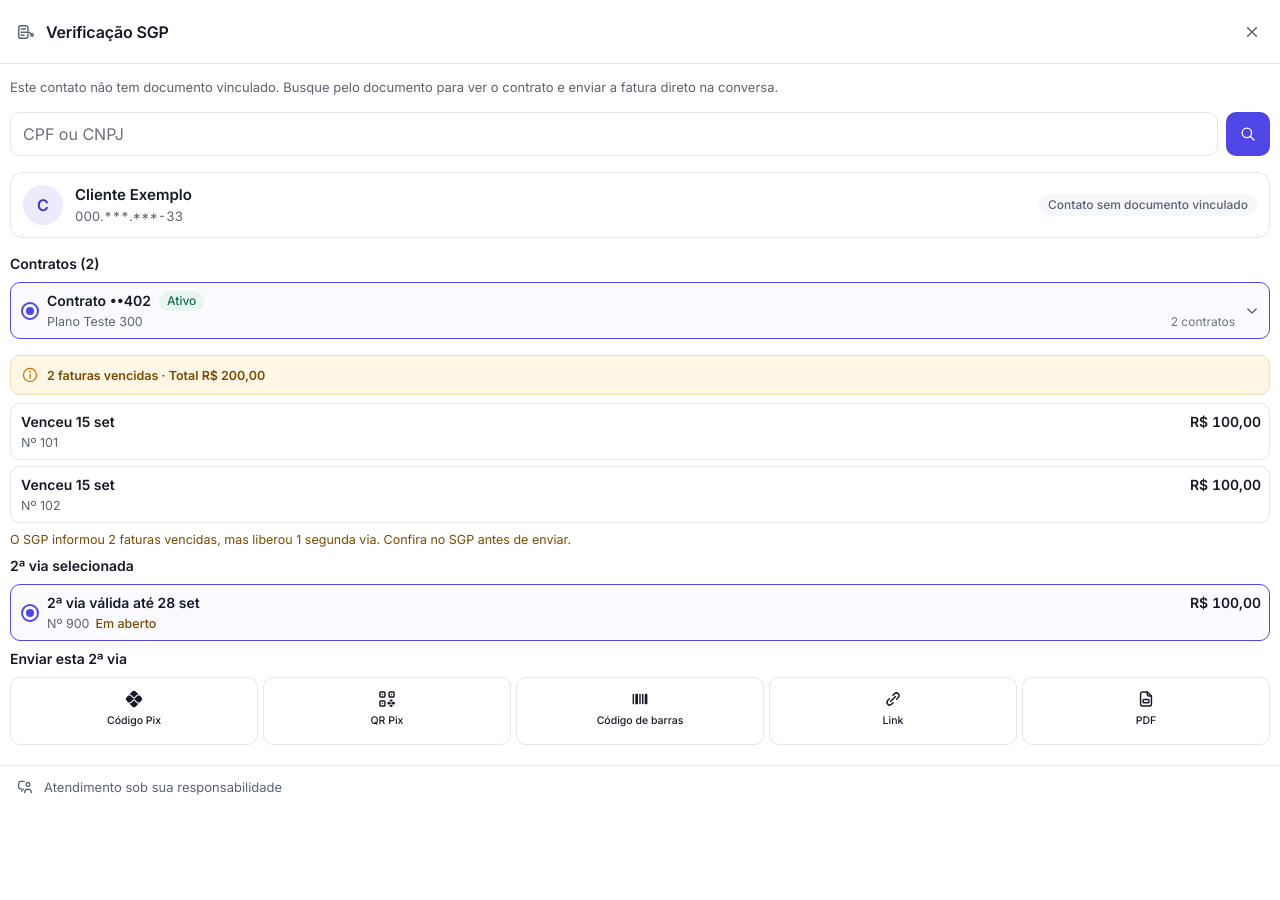
it: conferência das faturas (bug de 28/09/2026) › troca de contrato: o outro contrato não herda as pendências, o total nem o aviso do primeiro
Expected: the text "2 faturas vencidas · Total R$ 200,00" is shown, [47,366,265,384]
Click the button "Contrato ••402 Ativo Plano Teste 300 2 contratos" at (78, 300), box [10,282,1270,339]
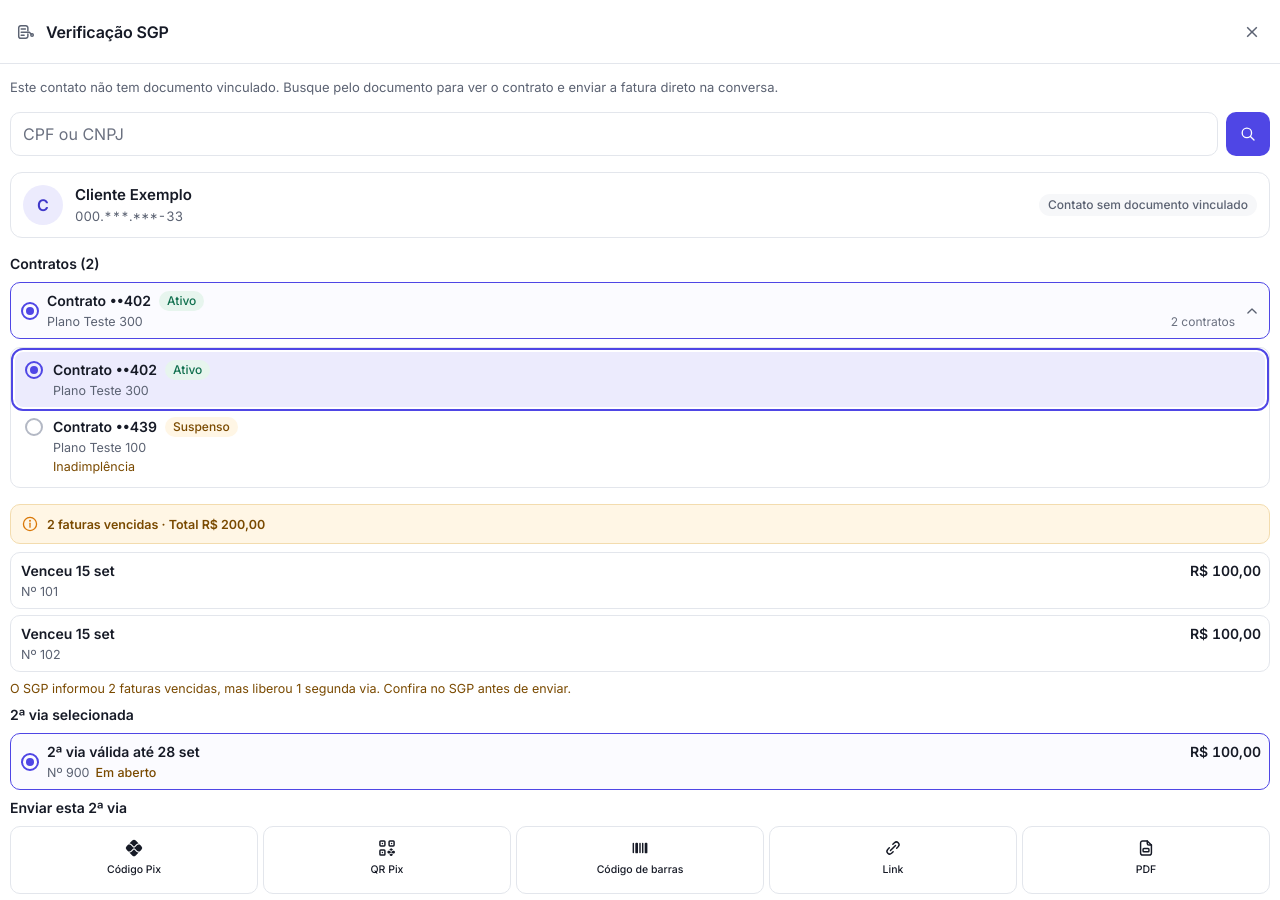
Click the button "Contrato ••439 Suspenso Plano Teste 100 Inadimplência" at (84, 426), box [15,409,1265,483]
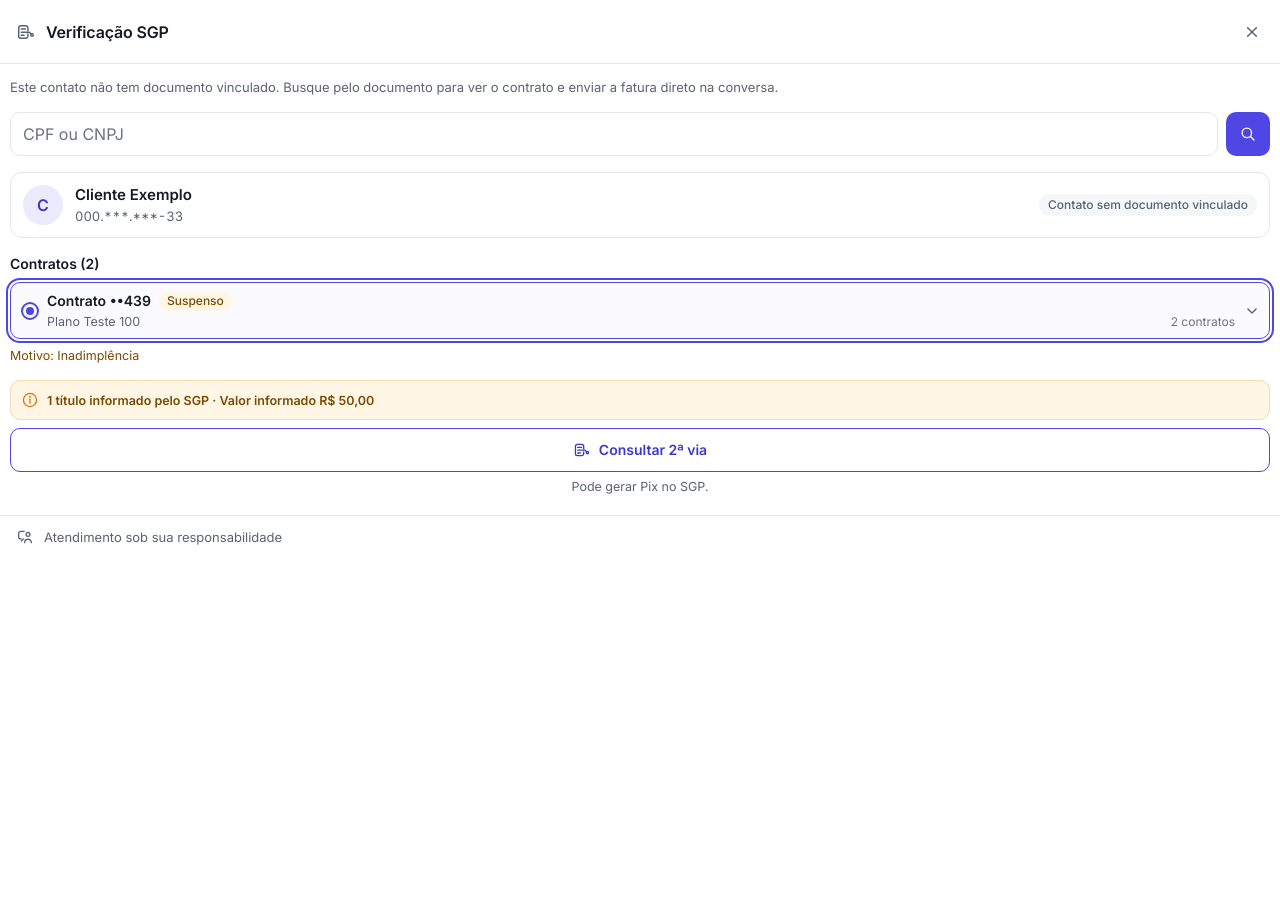
Expected: the text "1 título informado pelo SGP · Valor informado R$ 50,00" is shown, [47,392,374,408]
Expected: the text "Total" is gone
Expected: the text "Confira no SGP" is gone
